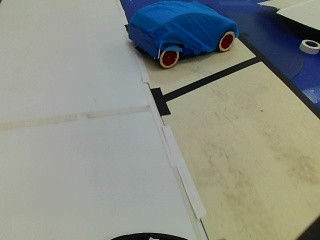car: (122, 0, 239, 71)
